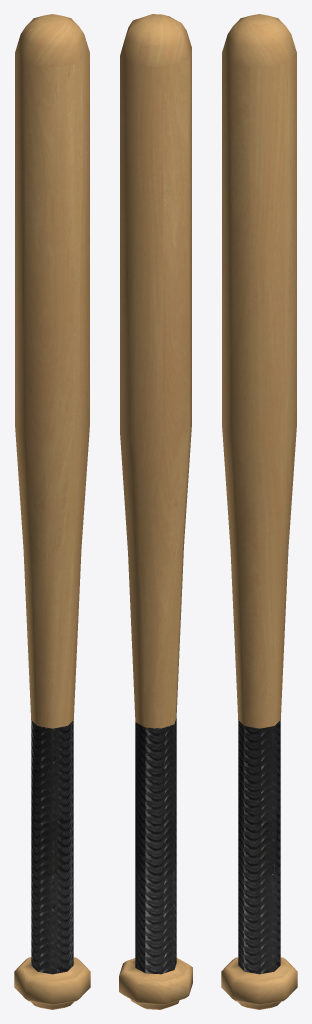
Rendered from BaseballBat_Raw_Wood(Clean).fbx.
3 views of the same model, side by side, from view 1: azimuth 90°, elevation 25°; view 2: azimuth 150°, elevation 25°; view 3: azimuth 270°, elevation 25° (orthographic).
Visible parts, largest first — view 1: BaseballBat_Raw_Wood(Clean); view 2: BaseballBat_Raw_Wood(Clean); view 3: BaseballBat_Raw_Wood(Clean).
Boxes of the visible parts, x1,y1,x2,y2 form: BaseballBat_Raw_Wood(Clean): (14, 14, 90, 1009); BaseballBat_Raw_Wood(Clean): (119, 14, 192, 1009); BaseballBat_Raw_Wood(Clean): (221, 14, 297, 1009).
Bounding box in the file's own units: 5.92 × 84.03 × 5.92.
